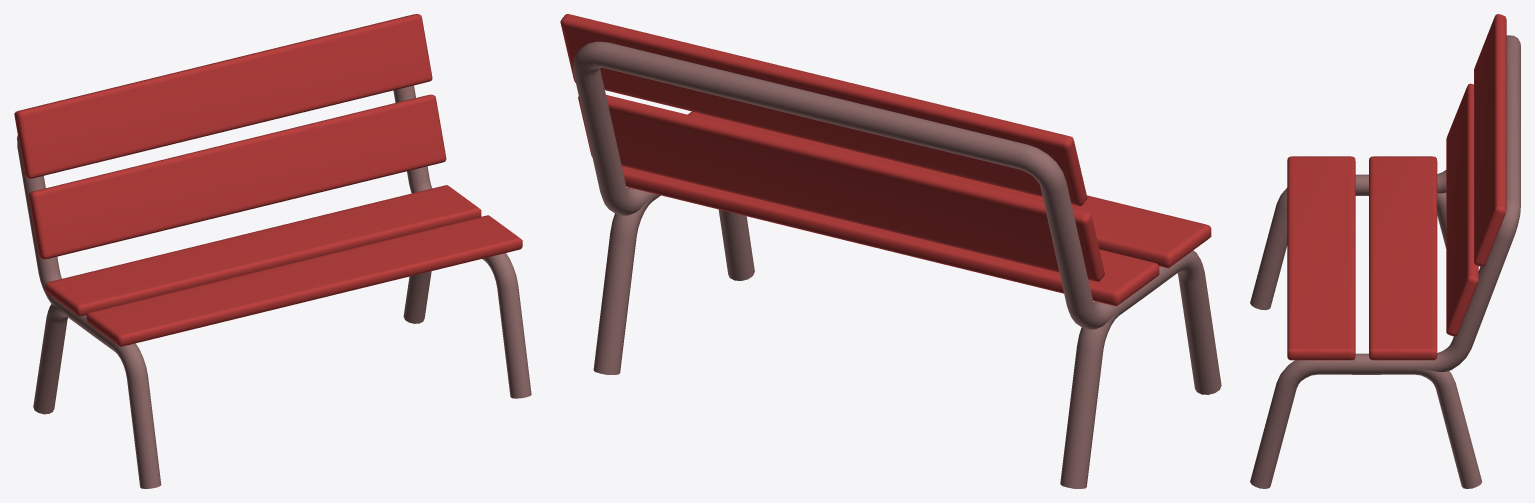
The model's file is bench.glb.
3 renders of one model, left to right at view 1: azimuth 30°, elevation 25°; view 2: azimuth 150°, elevation 25°; view 3: azimuth 270°, elevation 25°, orthographic. The views are drawn at different scales.
Visible parts, largest first — view 1: Plane.001, bench; view 2: Plane.001, bench; view 3: Plane.001, bench.
Boxes of the visible parts, left/top/right/bottom form: Plane.001: left=14, top=14, right=522, bottom=346; bench: left=17, top=85, right=531, bottom=488; Plane.001: left=560, top=14, right=1211, bottom=306; bench: left=573, top=41, right=1221, bottom=488; Plane.001: left=1287, top=14, right=1506, bottom=360; bench: left=1250, top=35, right=1520, bottom=488.
Size of the model in its own units: 2.37 by 1.61 by 1.37.
